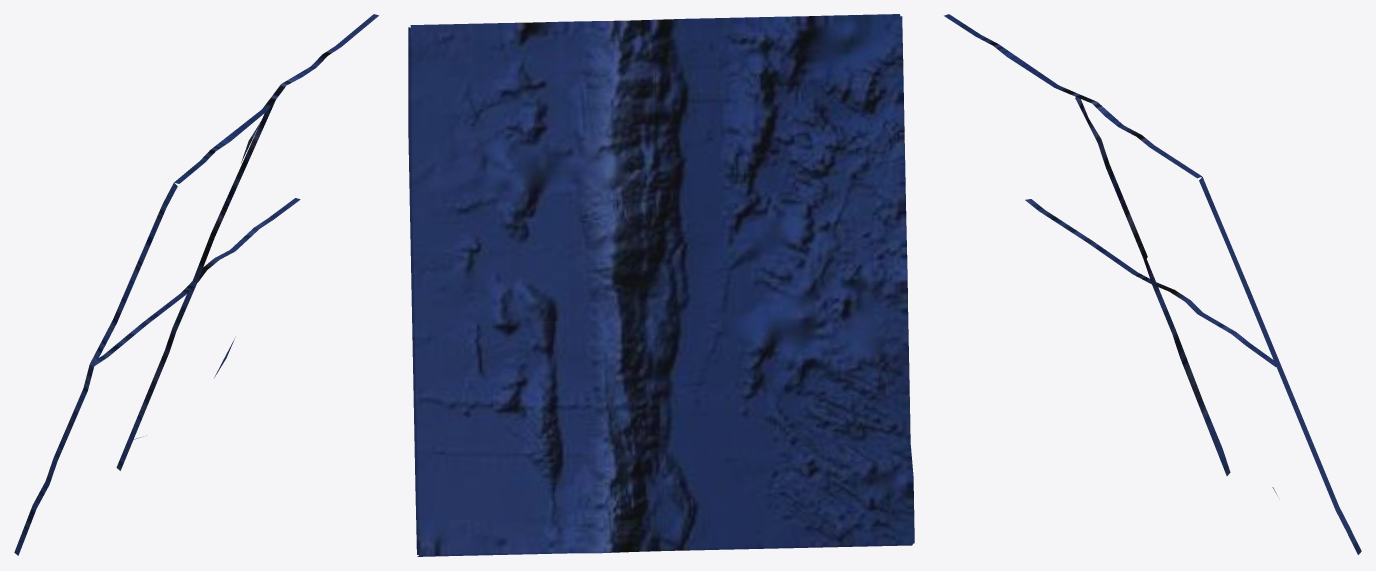
3 renders of one model, left to right at view 1: azimuth 30°, elevation 25°; view 2: azimuth 150°, elevation 25°; view 3: azimuth 270°, elevation 25°, orthographic. The views are drawn at different scales.
Size of the model in its own units: 155117 by 147513 by 131562.
Materials: 1 (1 with a texture image).
